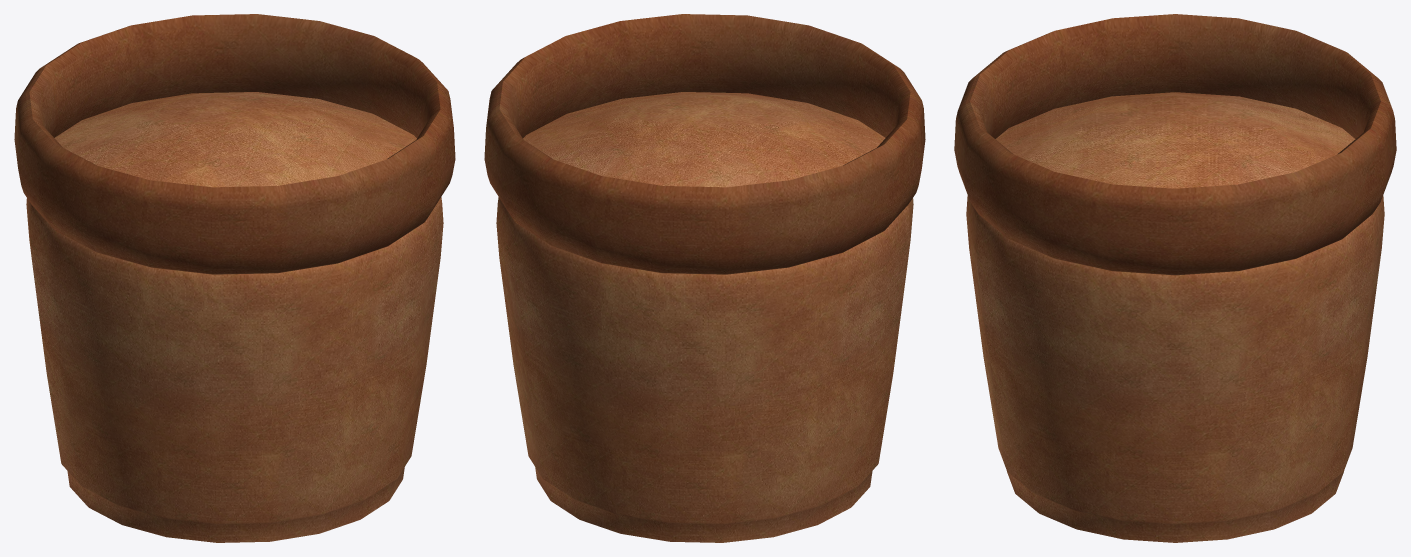
File: flowerpot.fbx
3 views of the same model, side by side, from view 1: azimuth 30°, elevation 25°; view 2: azimuth 150°, elevation 25°; view 3: azimuth 270°, elevation 25° (orthographic).
Visible parts, largest first — view 1: pCylinder1; view 2: pCylinder1; view 3: pCylinder1.
Part boxes in pixels (box(x1,y1,x2,y2)): pCylinder1: box(14, 14, 455, 542); pCylinder1: box(484, 14, 925, 542); pCylinder1: box(954, 14, 1396, 542).
Bounding box in the file's own units: 17.19 × 15.88 × 17.19.
